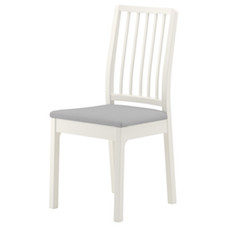chair: (31, 5, 208, 225)
